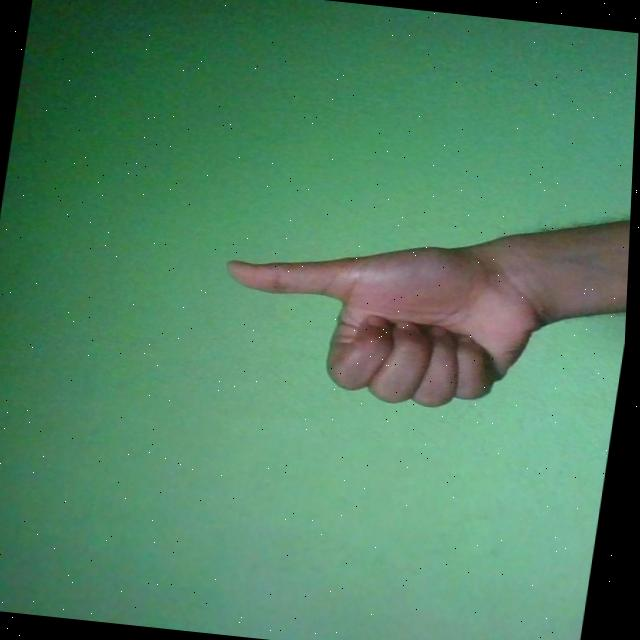Good Job: (210, 222, 561, 418)
